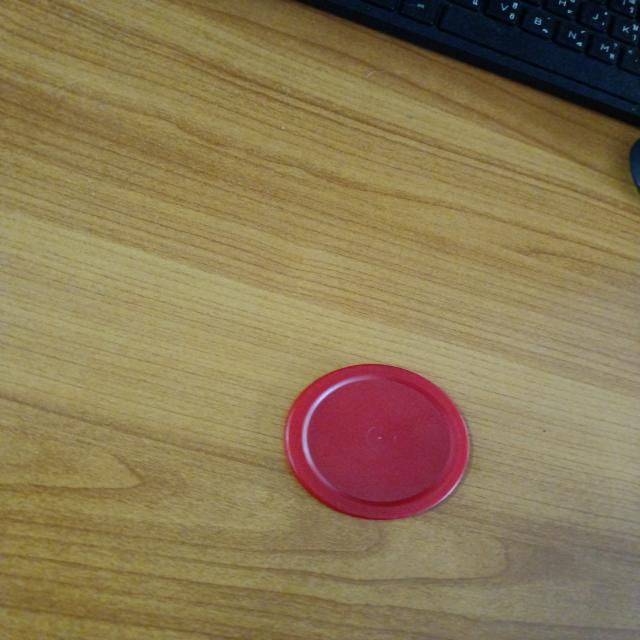chip: (280, 360, 471, 522)
